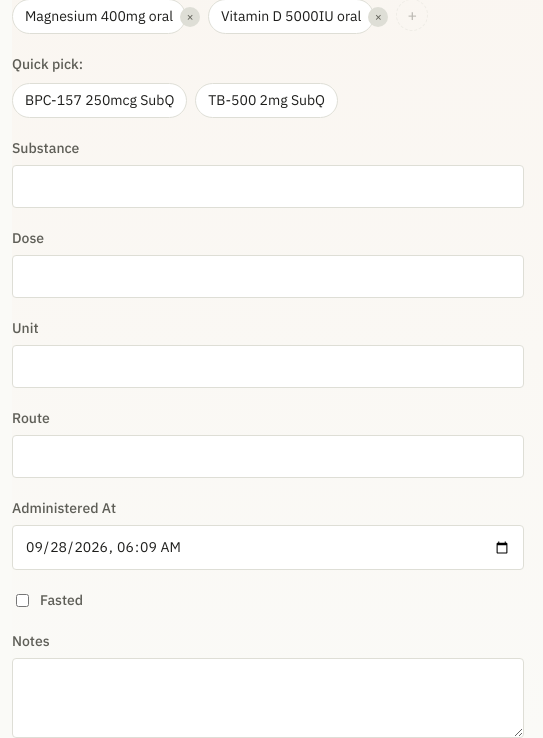
Test case: InterventionForm › protocol attribution › disables Fasted and shows a hint while attributing to a protocol (the log-dose endpoint has no fasted field)
Step 1. Type "BPC-157" into the field labelled "Substance" → (268, 186), box [12,165,524,208]
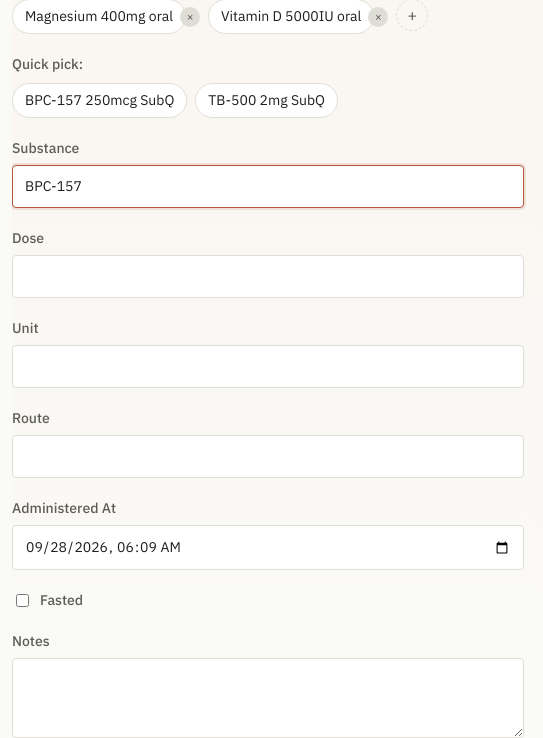
Step 2. Type "250" into the number field labelled "Dose" → (268, 276), box [12,255,524,298]
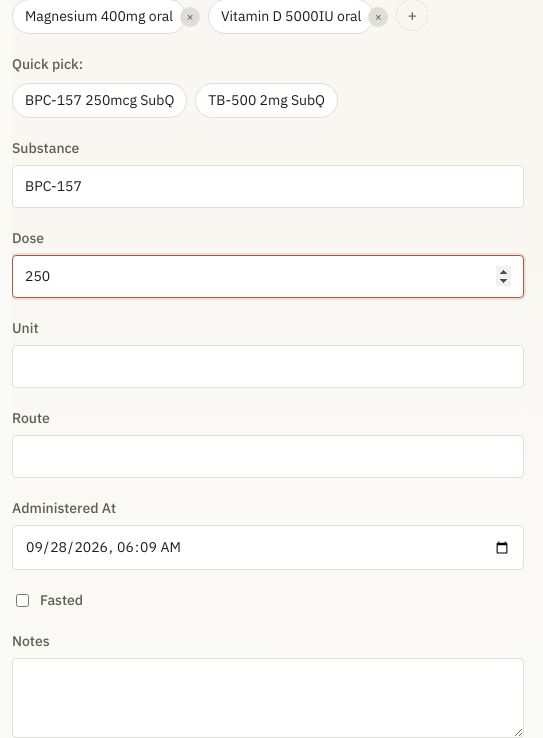
Step 3. Type "mcg" into the field labelled "Unit" → (268, 366), box [12,345,524,388]
(page scrolled)
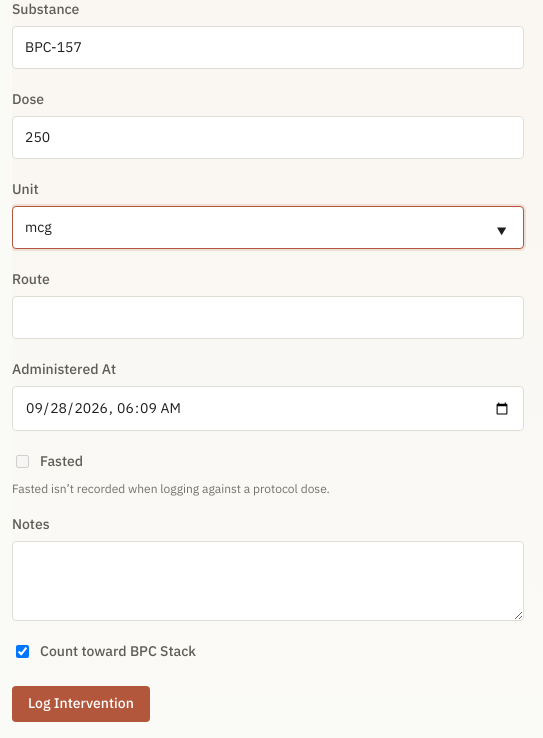
Check: the checkbox labelled "Count toward BPC Stack" is checked
Check: the checkbox labelled "Fasted" is disabled, box [16,455,29,468]
Check: the text "Fasted isn’t recorded when logging against a protocol dose." is shown, box [12,481,330,496]
Step 4. Click the checkbox labelled "Count toward BPC Stack" → (22, 652), box [16,645,29,658]
(page scrolled)
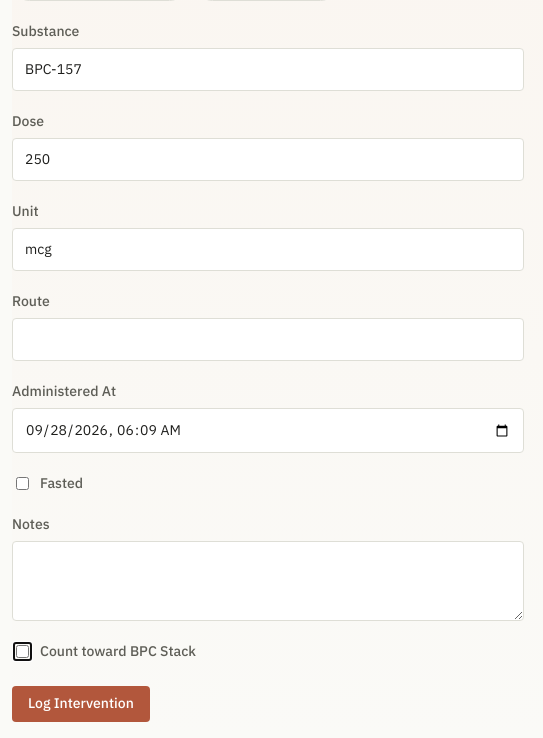
Check: the checkbox labelled "Fasted" is enabled, box [16,477,29,490]
